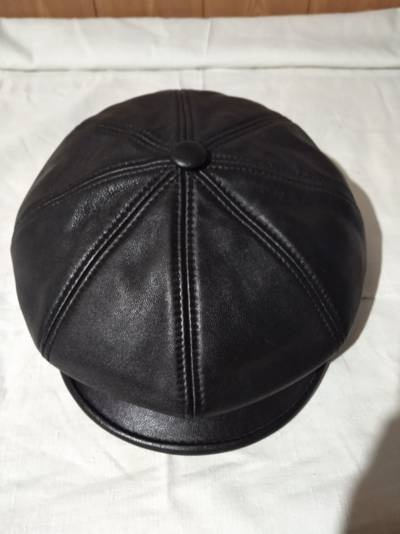Hat: (1, 62, 372, 455)
